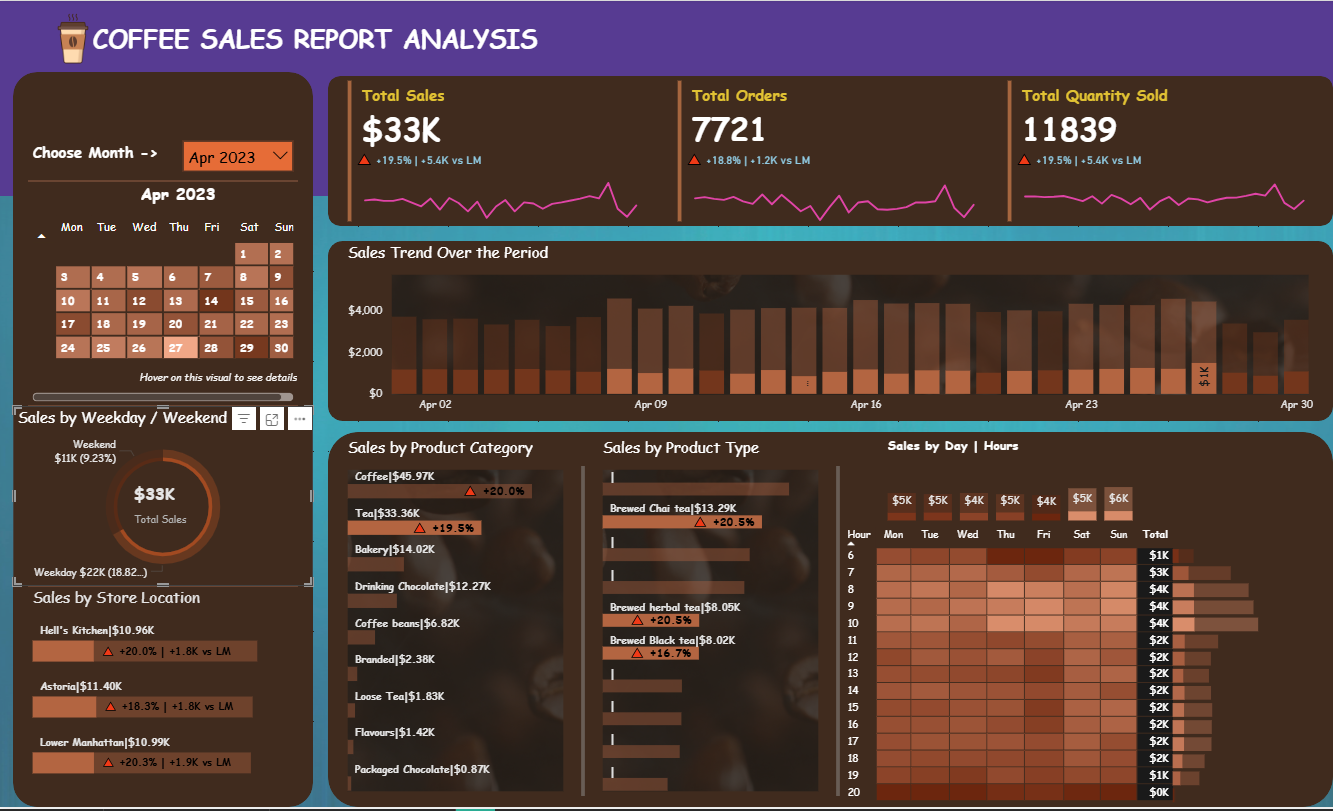

What the dashboard file says about the page in this screenshot:
{"tool":"powerbi","page":{"name":"Main Report","canvas":[1460,860],"ordinal":0},"visuals":[{"type":"shape","box":[0,0,1456,208],"z":0},{"type":"shape","box":[16,76,320,784],"z":1000},{"type":"shape","box":[352,80,1072,160],"z":2000},{"type":"textbox","box":[96,16,496,48],"z":3000},{"type":"cardVisual","fields":{"Data":["Transactions.Total Sales","Transactions.Total Sales"]},"box":[368,80,328,160],"z":4000,"group":"g1"},{"type":"cardVisual","fields":{"Data":["Transactions.Total Orders"]},"box":[720,80,336,160],"z":4000,"group":"g2"},{"type":"cardVisual","fields":{"Data":["Transactions.Total Quantity Sold"]},"box":[1072,80,336,160],"z":4000,"group":"g3"},{"type":"slicer","fields":{"Values":["Date Table.Month Year"]},"box":[192,144,128,48],"z":4000},{"type":"group","id":"g1","title":"Group 1","box":[368,80,328,160],"z":5000},{"type":"group","id":"g2","title":"Group 1","box":[720,80,336,160],"z":6000},{"type":"lineChart","fields":{"Category":["Date Table.Date.Variation.Date Hierarchy.Year","Date Table.Date.Variation.Date Hierarchy.Quarter","Date Table.Date.Variation.Date Hierarchy.Month","Date Table.Date.Variation.Date Hierarchy.Day"],"Y":["Transactions.Total Sales"]},"box":[376.6,160,319.4,80],"z":6000,"group":"g1"},{"type":"lineChart","fields":{"Category":["Date Table.Date.Variation.Date Hierarchy.Year","Date Table.Date.Variation.Date Hierarchy.Quarter","Date Table.Date.Variation.Date Hierarchy.Month","Date Table.Date.Variation.Date Hierarchy.Day"],"Y":["Transactions.Total Orders"]},"box":[728.8,160,327.2,80],"z":6000,"group":"g2"},{"type":"lineChart","fields":{"Category":["Date Table.Date.Variation.Date Hierarchy.Year","Date Table.Date.Variation.Date Hierarchy.Quarter","Date Table.Date.Variation.Date Hierarchy.Month","Date Table.Date.Variation.Date Hierarchy.Day"],"Y":["Transactions.Total Quantity Sold"]},"box":[1080.8,160,327.2,80],"z":6000,"group":"g3"},{"type":"group","id":"g3","title":"Group 1","box":[1072,80,336,160],"z":7000},{"type":"shape","box":[352,256,1072,192],"z":8000},{"type":"pivotTable","fields":{"Rows":["Date Table.Week Number"],"Columns":["Date Table.Day Name"],"Values":["Min(Date Table.Day Number)"]},"box":[32,224,288,208],"z":9000},{"type":"cardVisual","fields":{"Data":["Transactions.Foot Note"]},"box":[128,368,208,48],"z":10000},{"type":"card","fields":{"Values":["Min(Date Table.Month Year)"]},"box":[144,192,96,32],"z":11000},{"type":"shape","box":[32,416,288,32],"z":12000},{"type":"shape","box":[32,608,288,32],"z":13000},{"type":"shape","box":[32,176,288,32],"z":14000},{"type":"donutChart","title":"Sales by Weekday / Weekend","fields":{"Category":["Date Table.Weekday / Weekend"],"Y":["Transactions.Total Sales"]},"box":[16,432,320,192],"z":15000},{"type":"cardVisual","fields":{"Data":["Transactions.Total Sales"]},"box":[128,496,96,80],"z":16000},{"type":"clusteredBarChart","title":"Sales by Store Location","fields":{"Category":["Transactions.store_location"],"Y":["Transactions.Placeholder","Transactions.Total Sales"]},"box":[32,624,288,208],"z":17000},{"type":"columnChart","title":"Sales Trend Over the Period","fields":{"Category":["Transactions.transaction_date"],"Y":["Transactions.Total Sales"]},"box":[368,256,1040,192],"z":18000},{"type":"shape","box":[352,460,1072,400],"z":19000},{"type":"clusteredBarChart","title":"Sales by Product Category","fields":{"Y":["Transactions.Placeholder","Transactions.Total Sales"],"Category":["Transactions.product_category"]},"box":[368,464,240,384],"z":20000},{"type":"shape","box":[608,496,32,352],"z":21000},{"type":"clusteredBarChart","title":"Sales by Product Type","fields":{"Y":["Transactions.Placeholder","Transactions.Total Sales"],"Category":["Transactions.product_type"]},"box":[640,464,240,384],"z":22000},{"type":"shape","box":[880,496,32,352],"z":23000},{"type":"pivotTable","fields":{"Rows":["Transactions.Hour"],"Columns":["Date Table.Day Name"],"Values":["Transactions.Total Sales"]},"box":[896,556,368,304],"z":24000},{"type":"barChart","fields":{"Category":["Transactions.Hour"],"Y":["Transactions.Total Sales"]},"box":[1248,572,128,288],"z":25000},{"type":"columnChart","title":"Sales by Day | Hours","fields":{"Y":["Transactions.Total Sales"],"Category":["Date Table.Day Name"]},"box":[944,464,272,96],"z":26000},{"type":"textbox","box":[32,144,160,48],"z":27000},{"type":"image","box":[48,0,64,80],"z":28000}]}

Visuals, with their boxes on the page's 1460x860 design canvas (x1, y1, x2, y2). These are canvas units, not pixel positions in the 1333x811 screenshot, which may show the page scaled, cropped or inside an application window:
shape: (0, 0, 1456, 208)
shape: (16, 76, 336, 860)
shape: (352, 80, 1424, 240)
textbox: (96, 16, 592, 64)
cardVisual - Transactions.Total Sales x Transactions.Total Sales: (368, 80, 696, 240)
cardVisual - Transactions.Total Orders: (720, 80, 1056, 240)
cardVisual - Transactions.Total Quantity Sold: (1072, 80, 1408, 240)
slicer - Date Table.Month Year: (192, 144, 320, 192)
"Group 1" group: (368, 80, 696, 240)
"Group 1" group: (720, 80, 1056, 240)
lineChart - Date Table.Date.Variation.Date Hierarchy.Year x Date Table.Date.Variation.Date Hierarchy.Quarter: (377, 160, 696, 240)
lineChart - Date Table.Date.Variation.Date Hierarchy.Year x Date Table.Date.Variation.Date Hierarchy.Quarter: (729, 160, 1056, 240)
lineChart - Date Table.Date.Variation.Date Hierarchy.Year x Date Table.Date.Variation.Date Hierarchy.Quarter: (1081, 160, 1408, 240)
"Group 1" group: (1072, 80, 1408, 240)
shape: (352, 256, 1424, 448)
pivotTable - Date Table.Week Number x Date Table.Day Name: (32, 224, 320, 432)
cardVisual - Transactions.Foot Note: (128, 368, 336, 416)
card - Min(Date Table.Month Year): (144, 192, 240, 224)
shape: (32, 416, 320, 448)
shape: (32, 608, 320, 640)
shape: (32, 176, 320, 208)
"Sales by Weekday / Weekend" donutChart: (16, 432, 336, 624)
cardVisual - Transactions.Total Sales: (128, 496, 224, 576)
"Sales by Store Location" clusteredBarChart: (32, 624, 320, 832)
"Sales Trend Over the Period" columnChart: (368, 256, 1408, 448)
shape: (352, 460, 1424, 860)
"Sales by Product Category" clusteredBarChart: (368, 464, 608, 848)
shape: (608, 496, 640, 848)
"Sales by Product Type" clusteredBarChart: (640, 464, 880, 848)
shape: (880, 496, 912, 848)
pivotTable - Transactions.Hour x Date Table.Day Name: (896, 556, 1264, 860)
barChart - Transactions.Hour x Transactions.Total Sales: (1248, 572, 1376, 860)
"Sales by Day | Hours" columnChart: (944, 464, 1216, 560)
textbox: (32, 144, 192, 192)
image: (48, 0, 112, 80)
